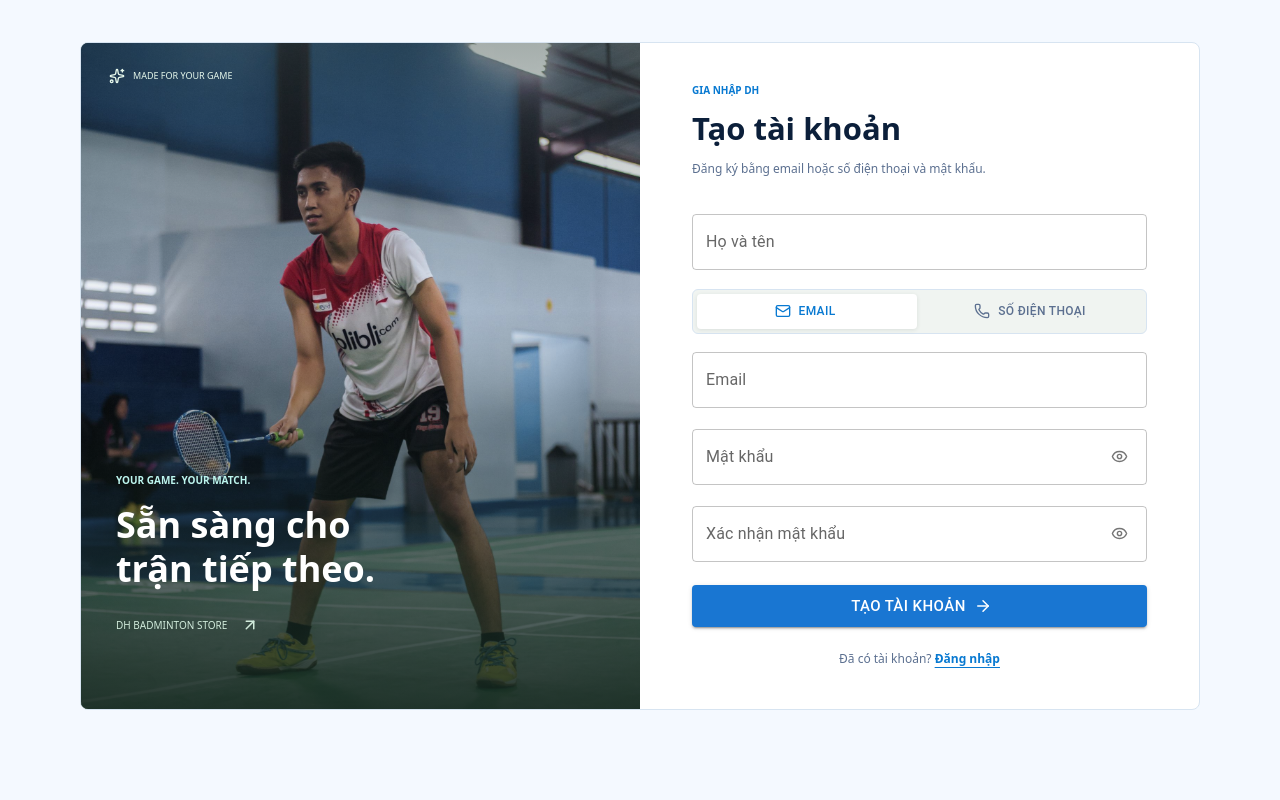
Test: Auth screens › blocks mismatched password confirmation before API
In the field labelled "Họ và tên": (920, 242) [692,214,1147,270], type "Name"
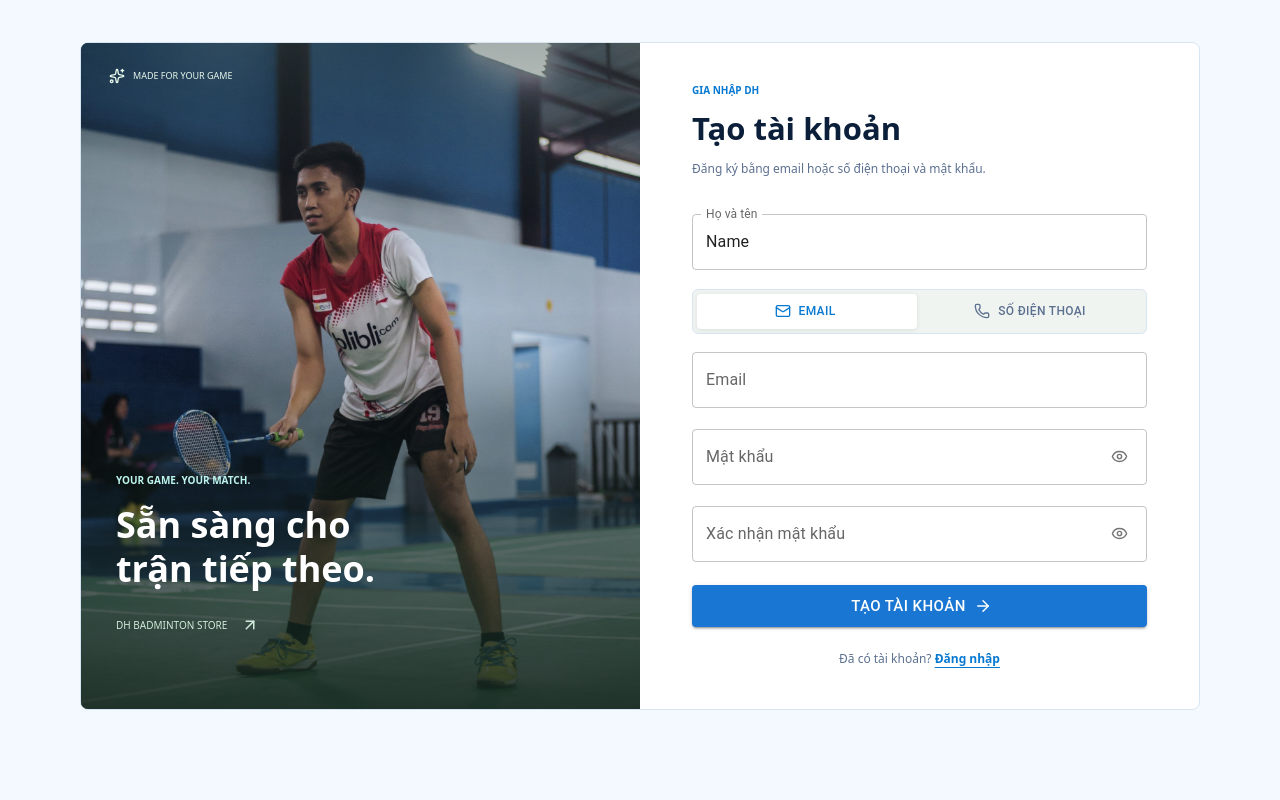
In the field labelled "Email": (920, 380) [692,352,1147,408], type "a@example.com"
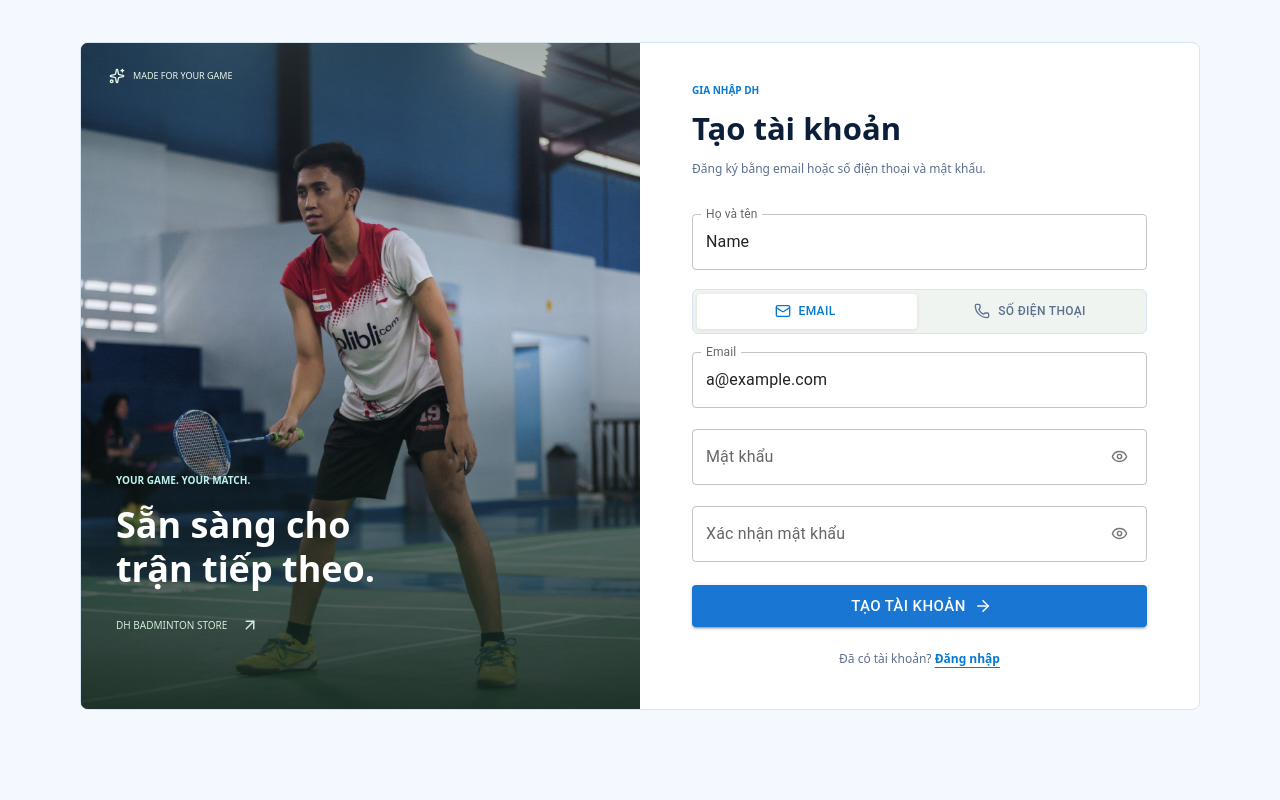
In the password field labelled "Mật khẩu": (895, 457) [692,429,1098,485], type "Password123!"
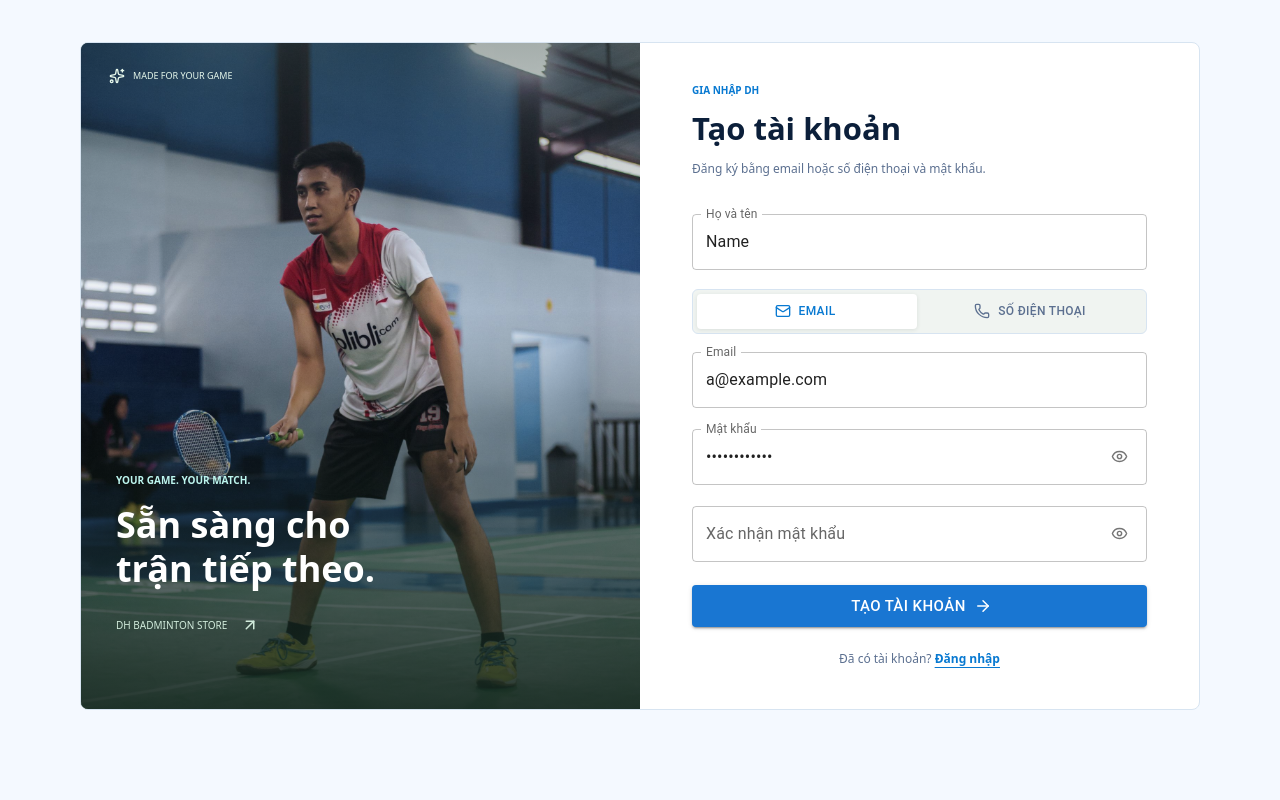
In the password field labelled "Xác nhận mật khẩu": (895, 534) [692,506,1098,562], type "Different123!"
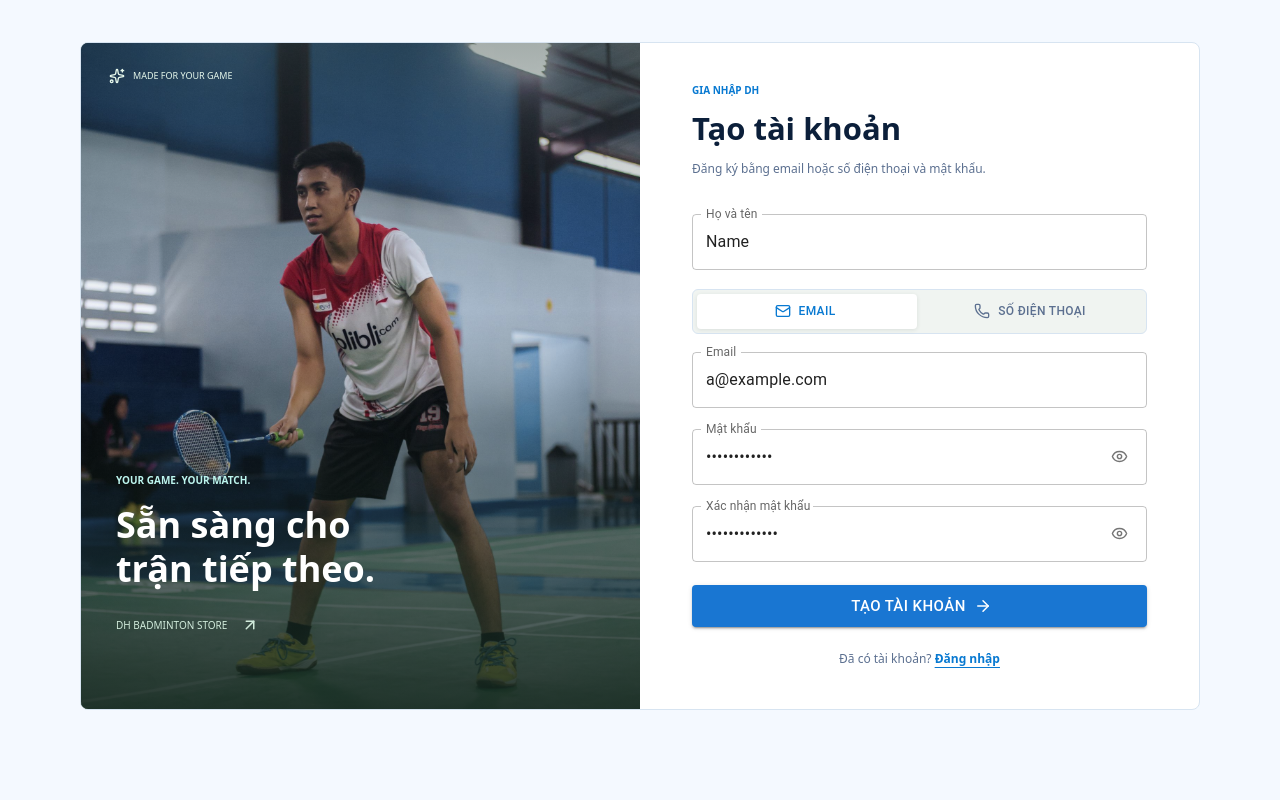
Click the button "Tạo tài khoản": (920, 606) [692,585,1147,627]
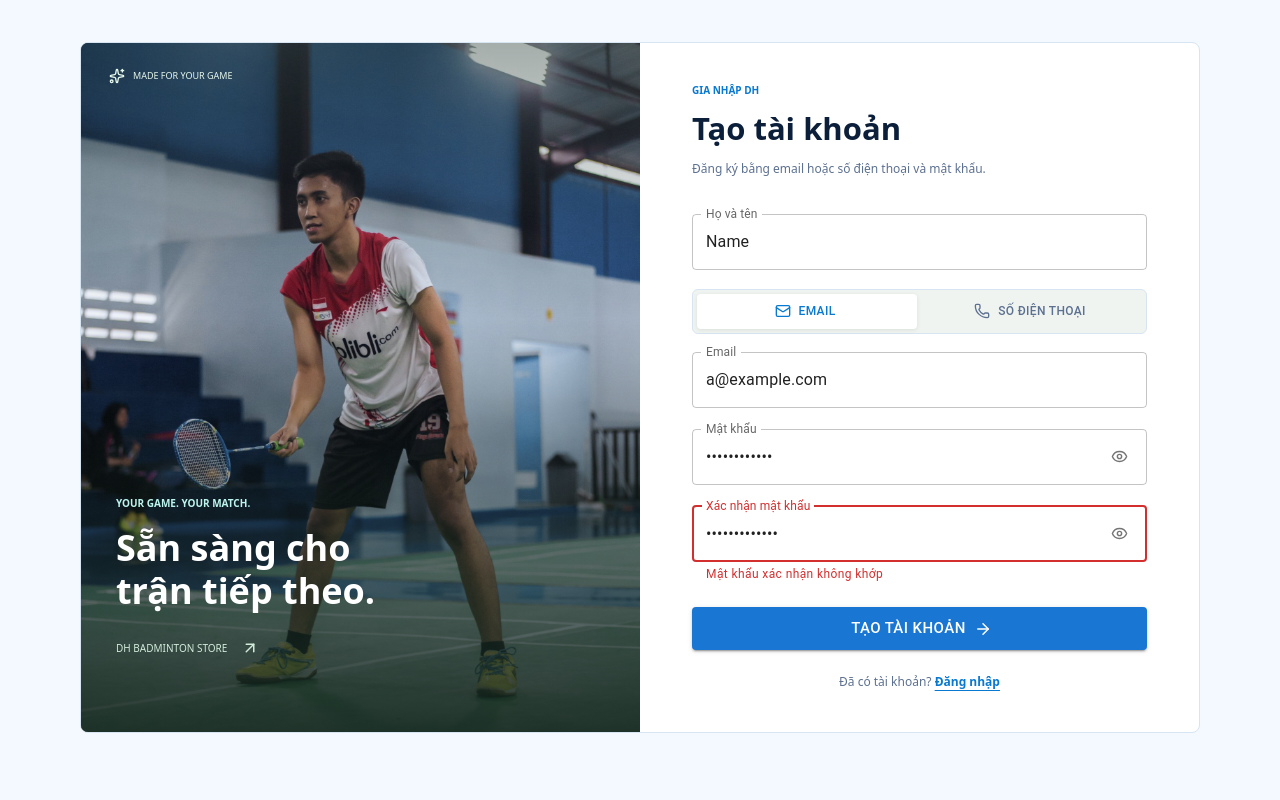
Expected: the text "Mật khẩu xác nhận không khớp" is shown, [706,567,883,581]
